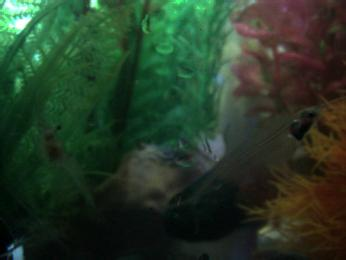glassfish: (163, 104, 325, 222)
siberian prawn: (31, 109, 100, 213)
